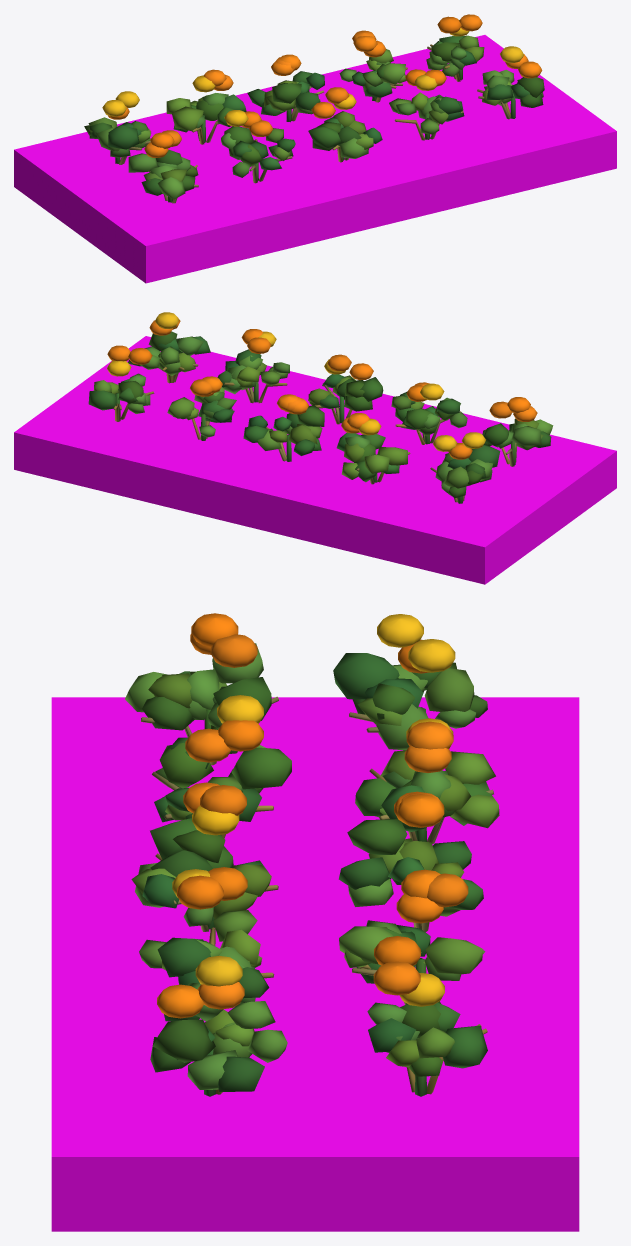
The model's file is PRP_Marigold_Bed_A.glb.
3 views of the same model, one above another, from view 1: azimuth 30°, elevation 25°; view 2: azimuth 150°, elevation 25°; view 3: azimuth 270°, elevation 25° (orthographic). The views are drawn at different scales.
Parts seen in each view (by area): view 1: COL_Bed, STATE_recovering, PICK_Blooms, STATE_withered; view 2: COL_Bed, STATE_recovering, PICK_Blooms, STATE_withered; view 3: COL_Bed, STATE_recovering, PICK_Blooms, STATE_withered.
Boxes of the visible parts, x1,y1,x2,y2 form: COL_Bed: (14,35,616,283); STATE_recovering: (84,35,544,202); PICK_Blooms: (102,14,542,157); STATE_withered: (119,44,510,203); COL_Bed: (14,336,616,584); STATE_recovering: (88,331,553,503); PICK_Blooms: (107,312,537,459); STATE_withered: (113,364,516,502); COL_Bed: (51,697,579,1231); STATE_recovering: (125,643,499,1096); PICK_Blooms: (157,613,468,1018); STATE_withered: (141,696,493,1094).
Bounding box in the file's own units: 3.3 × 0.7096 × 1.6.
